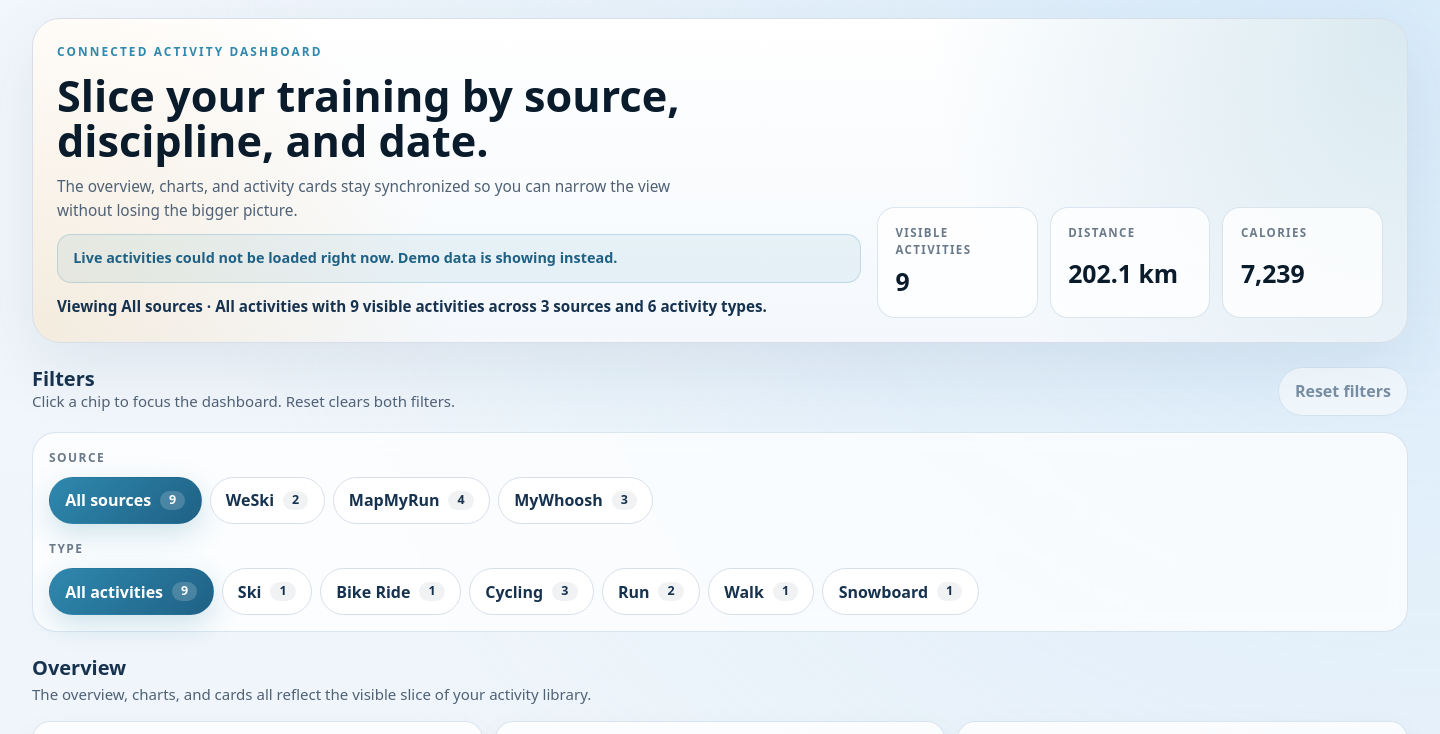
Test: Activities page › filters the dashboard by activity type
The image size is (1440, 734).
Expected: the heading "Slice your training by source, discipline, and date." is shown, [57,66,680,170]
Expected: the text "Live activities could not be loaded right now. Demo data is showing instead." is shown, [57,234,861,283]
Click the button with aria-label "filter by activity type run".
click(651, 592)  # box [602,568,700,615]
(page scrolled)
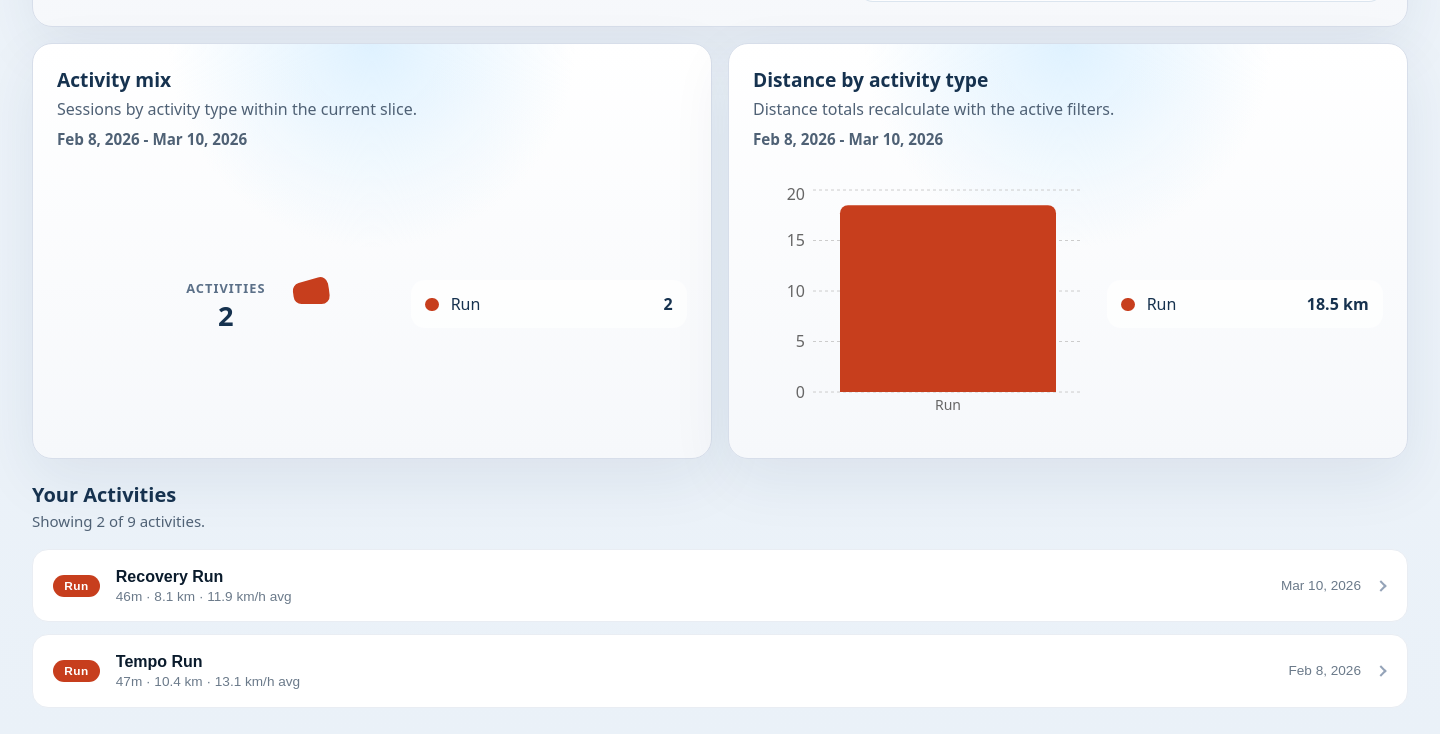
Expected: the text "Tempo Run" is shown, [116,653,203,670]
Now the text "Showing 2 of 9 activities." is shown, box [32,511,205,531]
